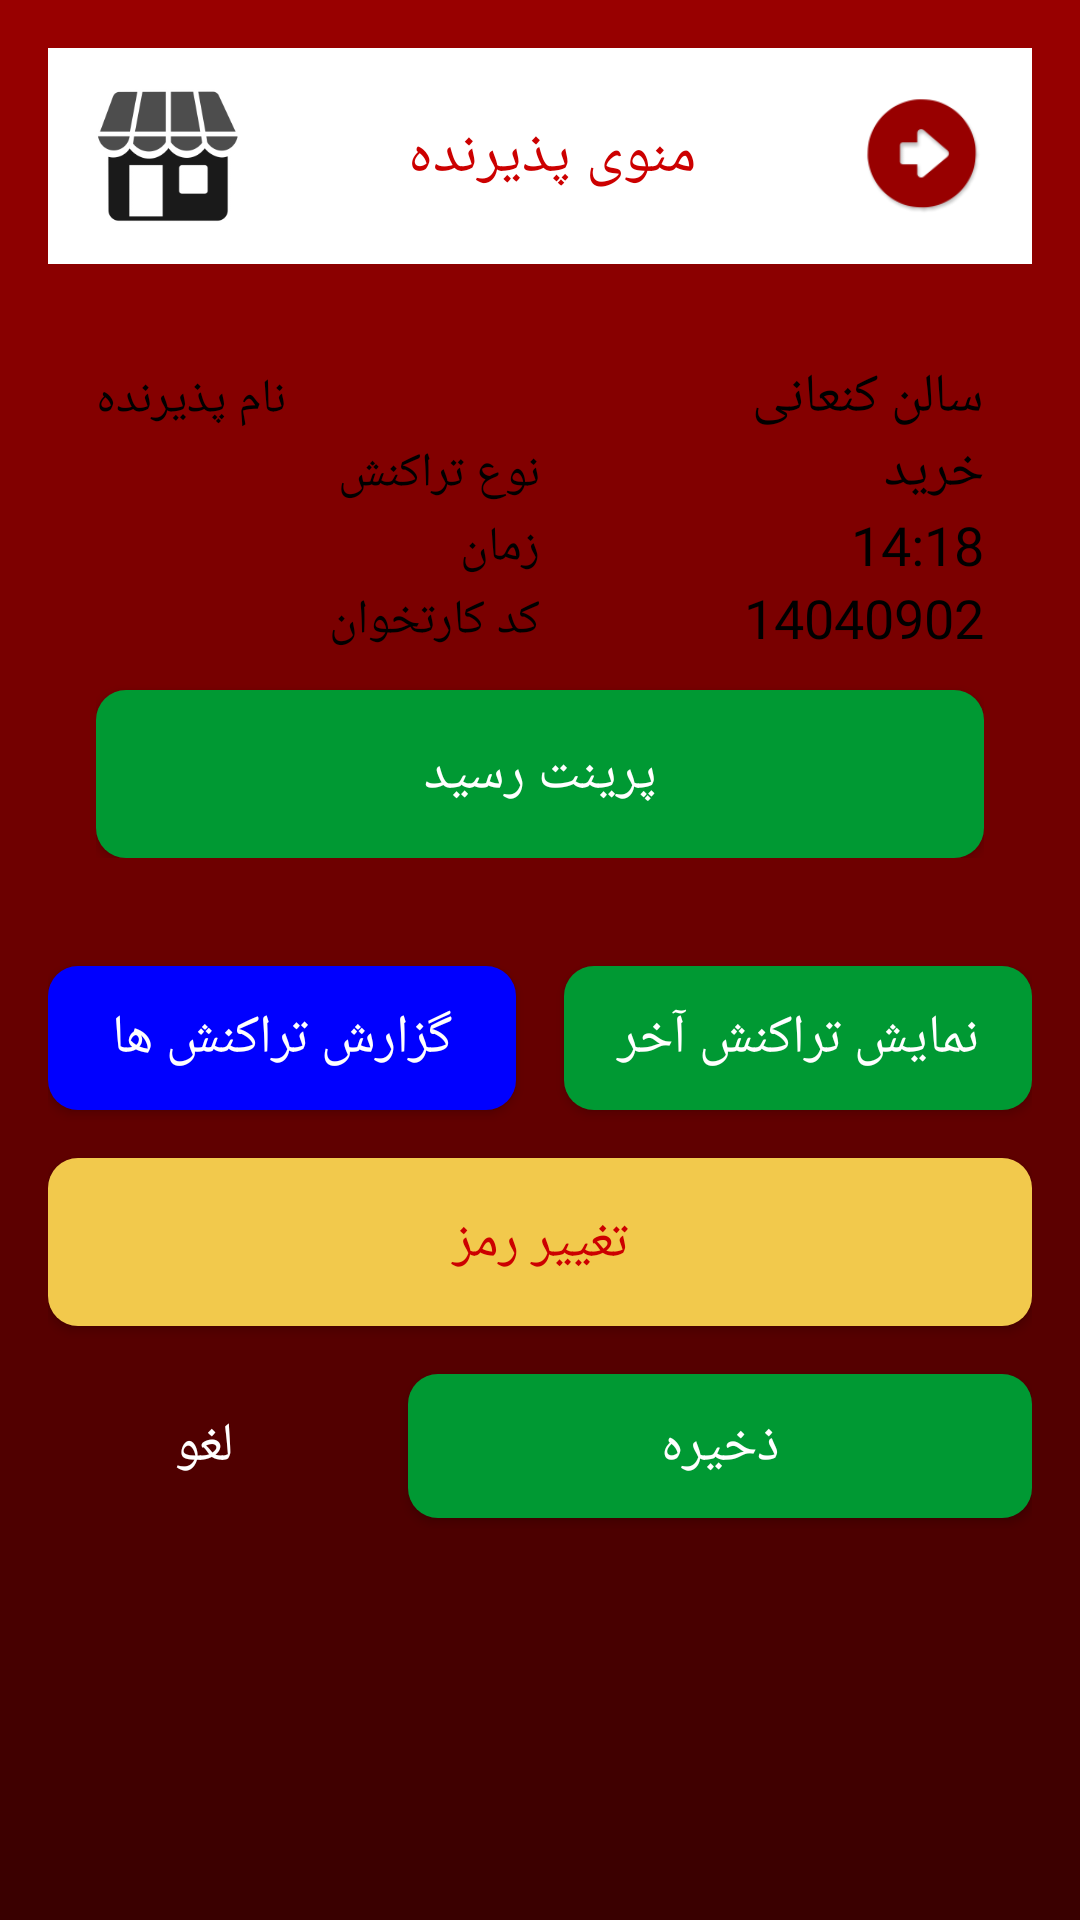

Icons on this 1080x1920 Android screen, each with the point to tap as (x,y):
shopmenu: (168,156)
